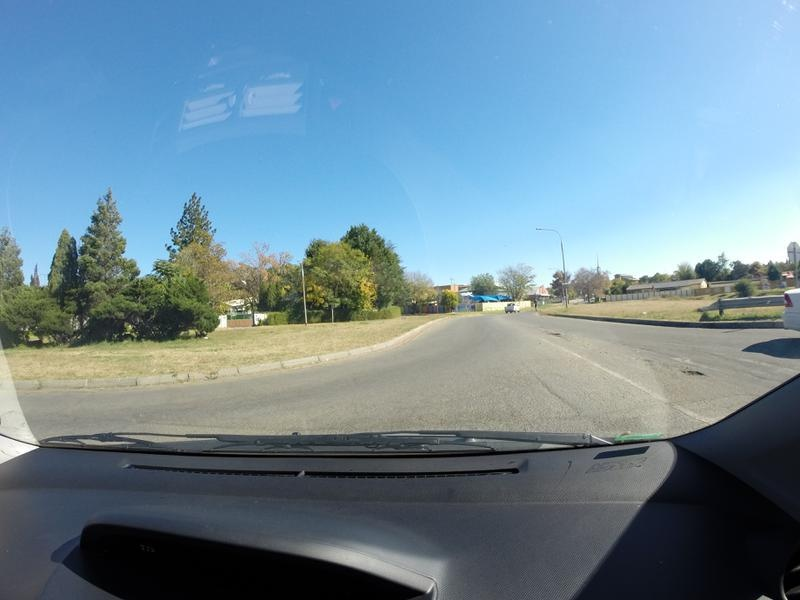pothole: (678, 362, 714, 383), (543, 326, 574, 342)
